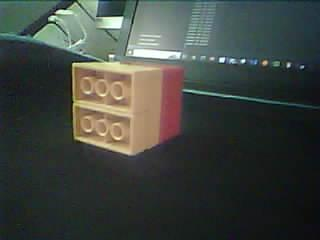lego: (72, 60, 184, 156)
